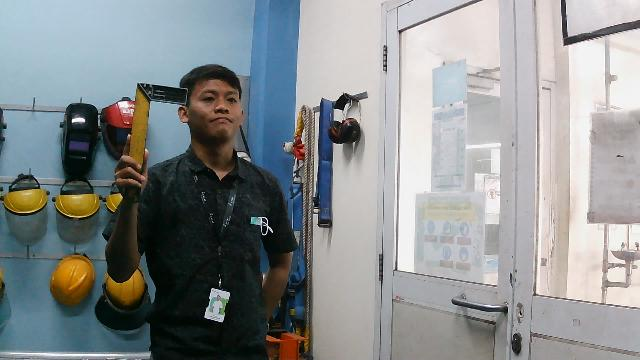penggaris_siku: (120, 79, 190, 191)
